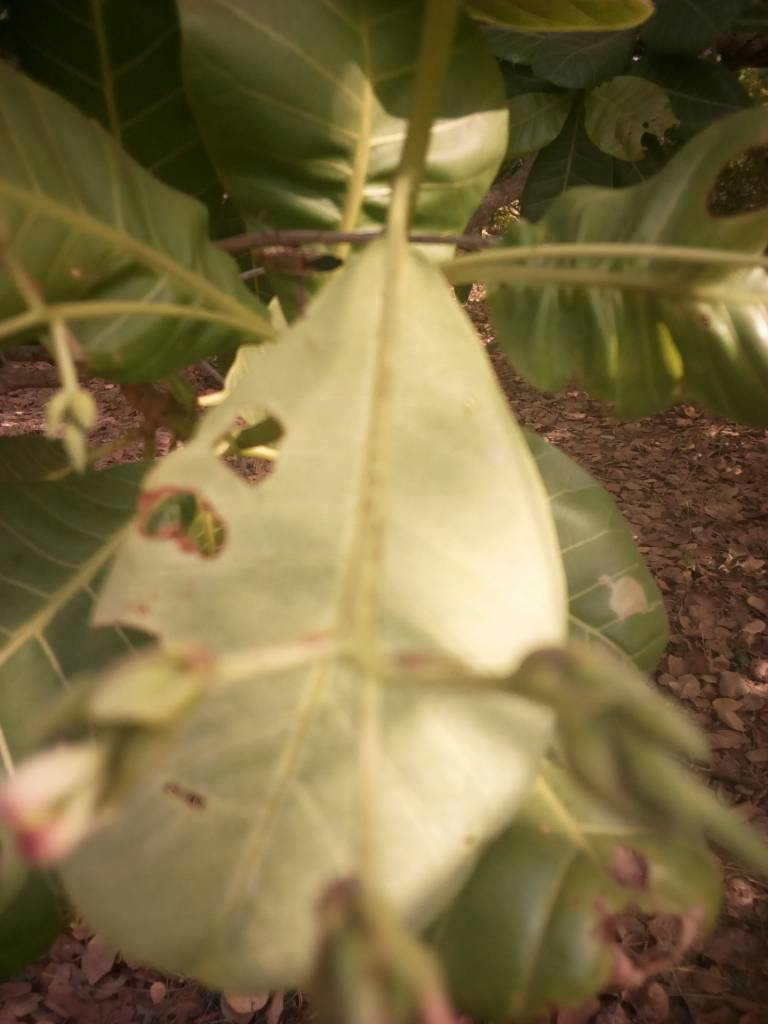Anoplonemis curvipes: (113, 378, 432, 975)
